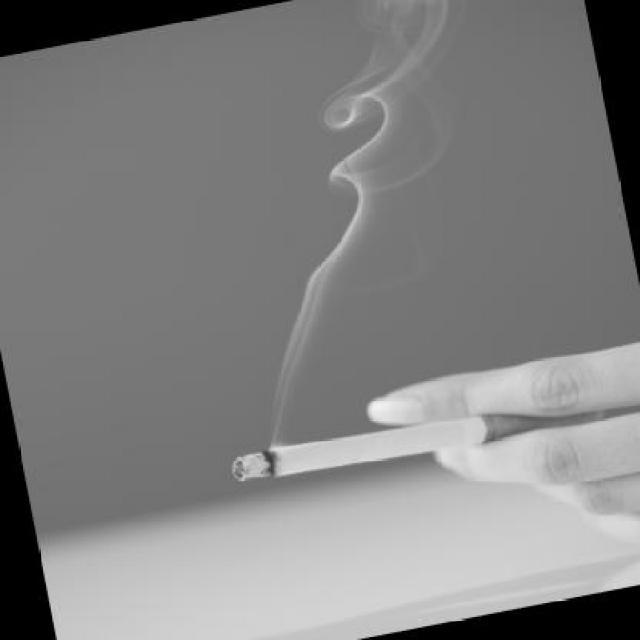smoke: (228, 382, 612, 493)
